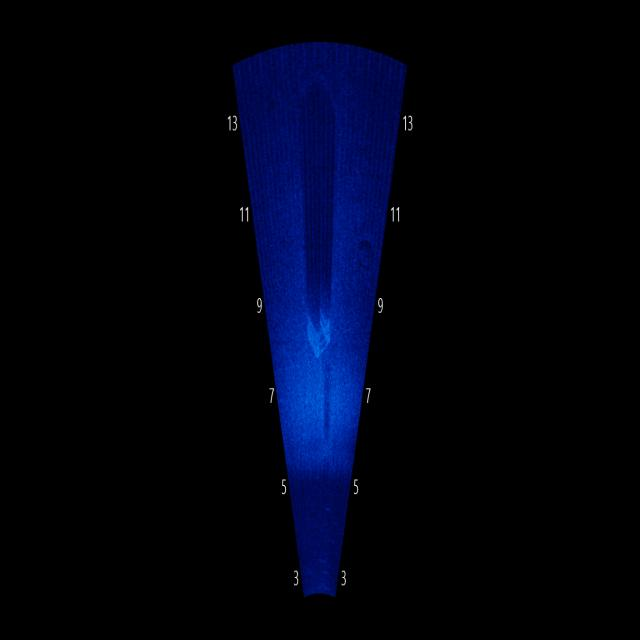square: (298, 285, 337, 365)
